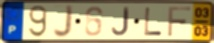6: (84, 5, 104, 37)
9: (27, 5, 49, 39)
F: (166, 6, 193, 38)
J: (52, 4, 75, 40), (111, 7, 130, 37)
L: (142, 7, 163, 37)
